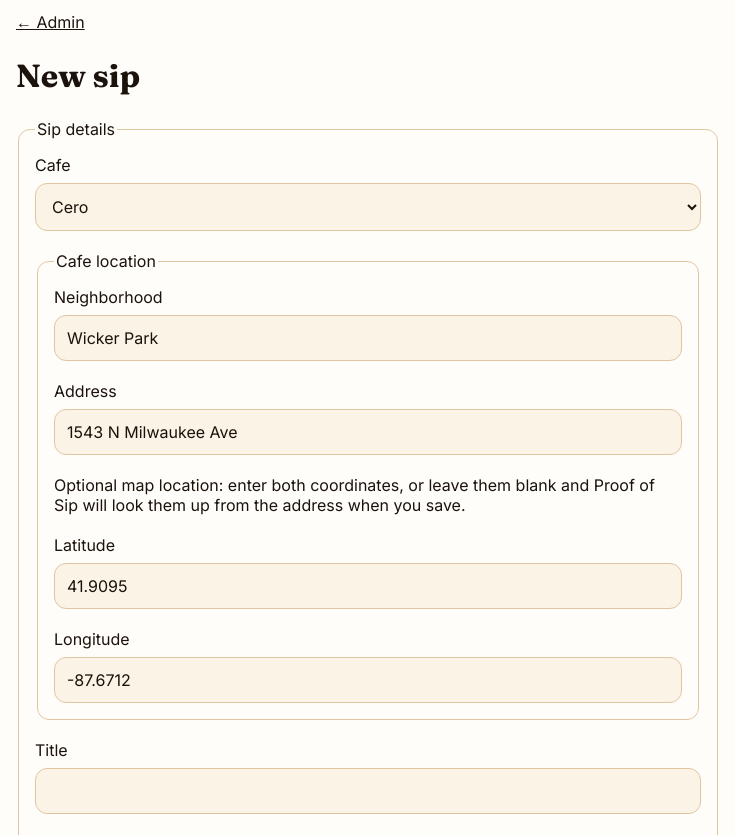
Test: sip form › pre-fills the selected cafe's address and coordinates, and swaps them when switching cafes
Expected: the field labelled "Neighborhood" holds "Wicker Park", [54,315,682,361]
Expected: the field labelled "Address" holds "1543 N Milwaukee Ave", [54,409,682,455]
Select "Unmapped Cafe" in the dropdown labelled "Cafe". click: (368, 207)
box: [35,183,701,231]
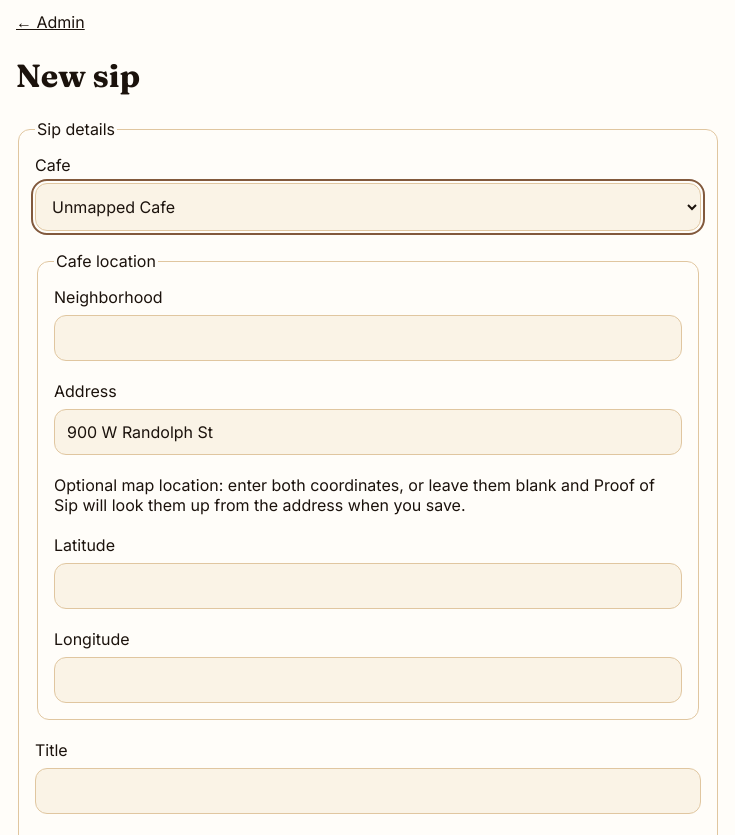
Expected: the field labelled "Address" holds "900 W Randolph St", [54,409,682,455]
Expected: the number field labelled "Latitude" is empty, [54,563,682,609]
Expected: the number field labelled "Longitude" is empty, [54,657,682,703]
